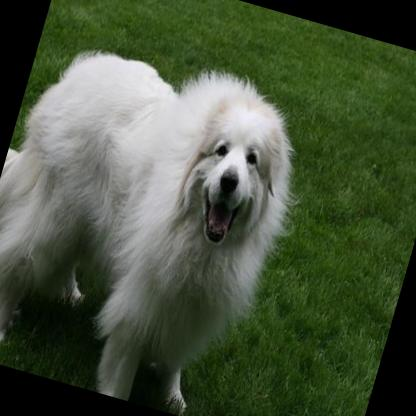Great_Pyrenees: (0, 16, 322, 416)
